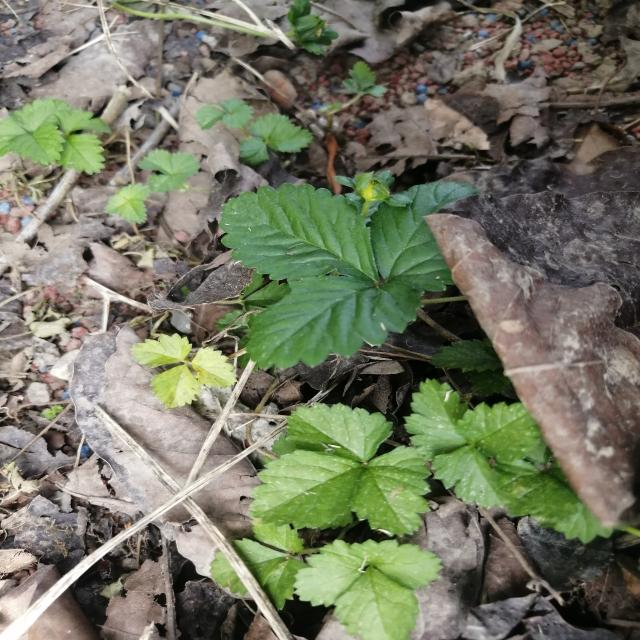Mock_strawberry: (251, 378, 592, 536), (203, 170, 478, 360)
